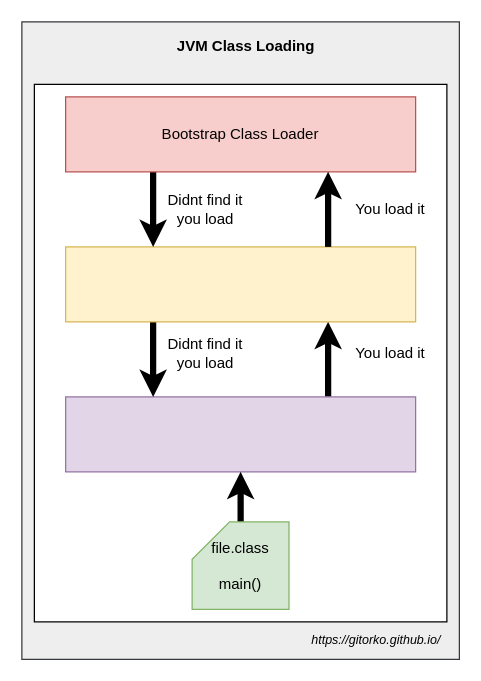
The diagram is 481 pixels wide and 681 high, and some of its shapes have lost their labels. Each missing label, with the box of its shape:
Application Class Loader: (64, 396, 416, 472)
Extension Class Loader: (64, 246, 416, 322)
